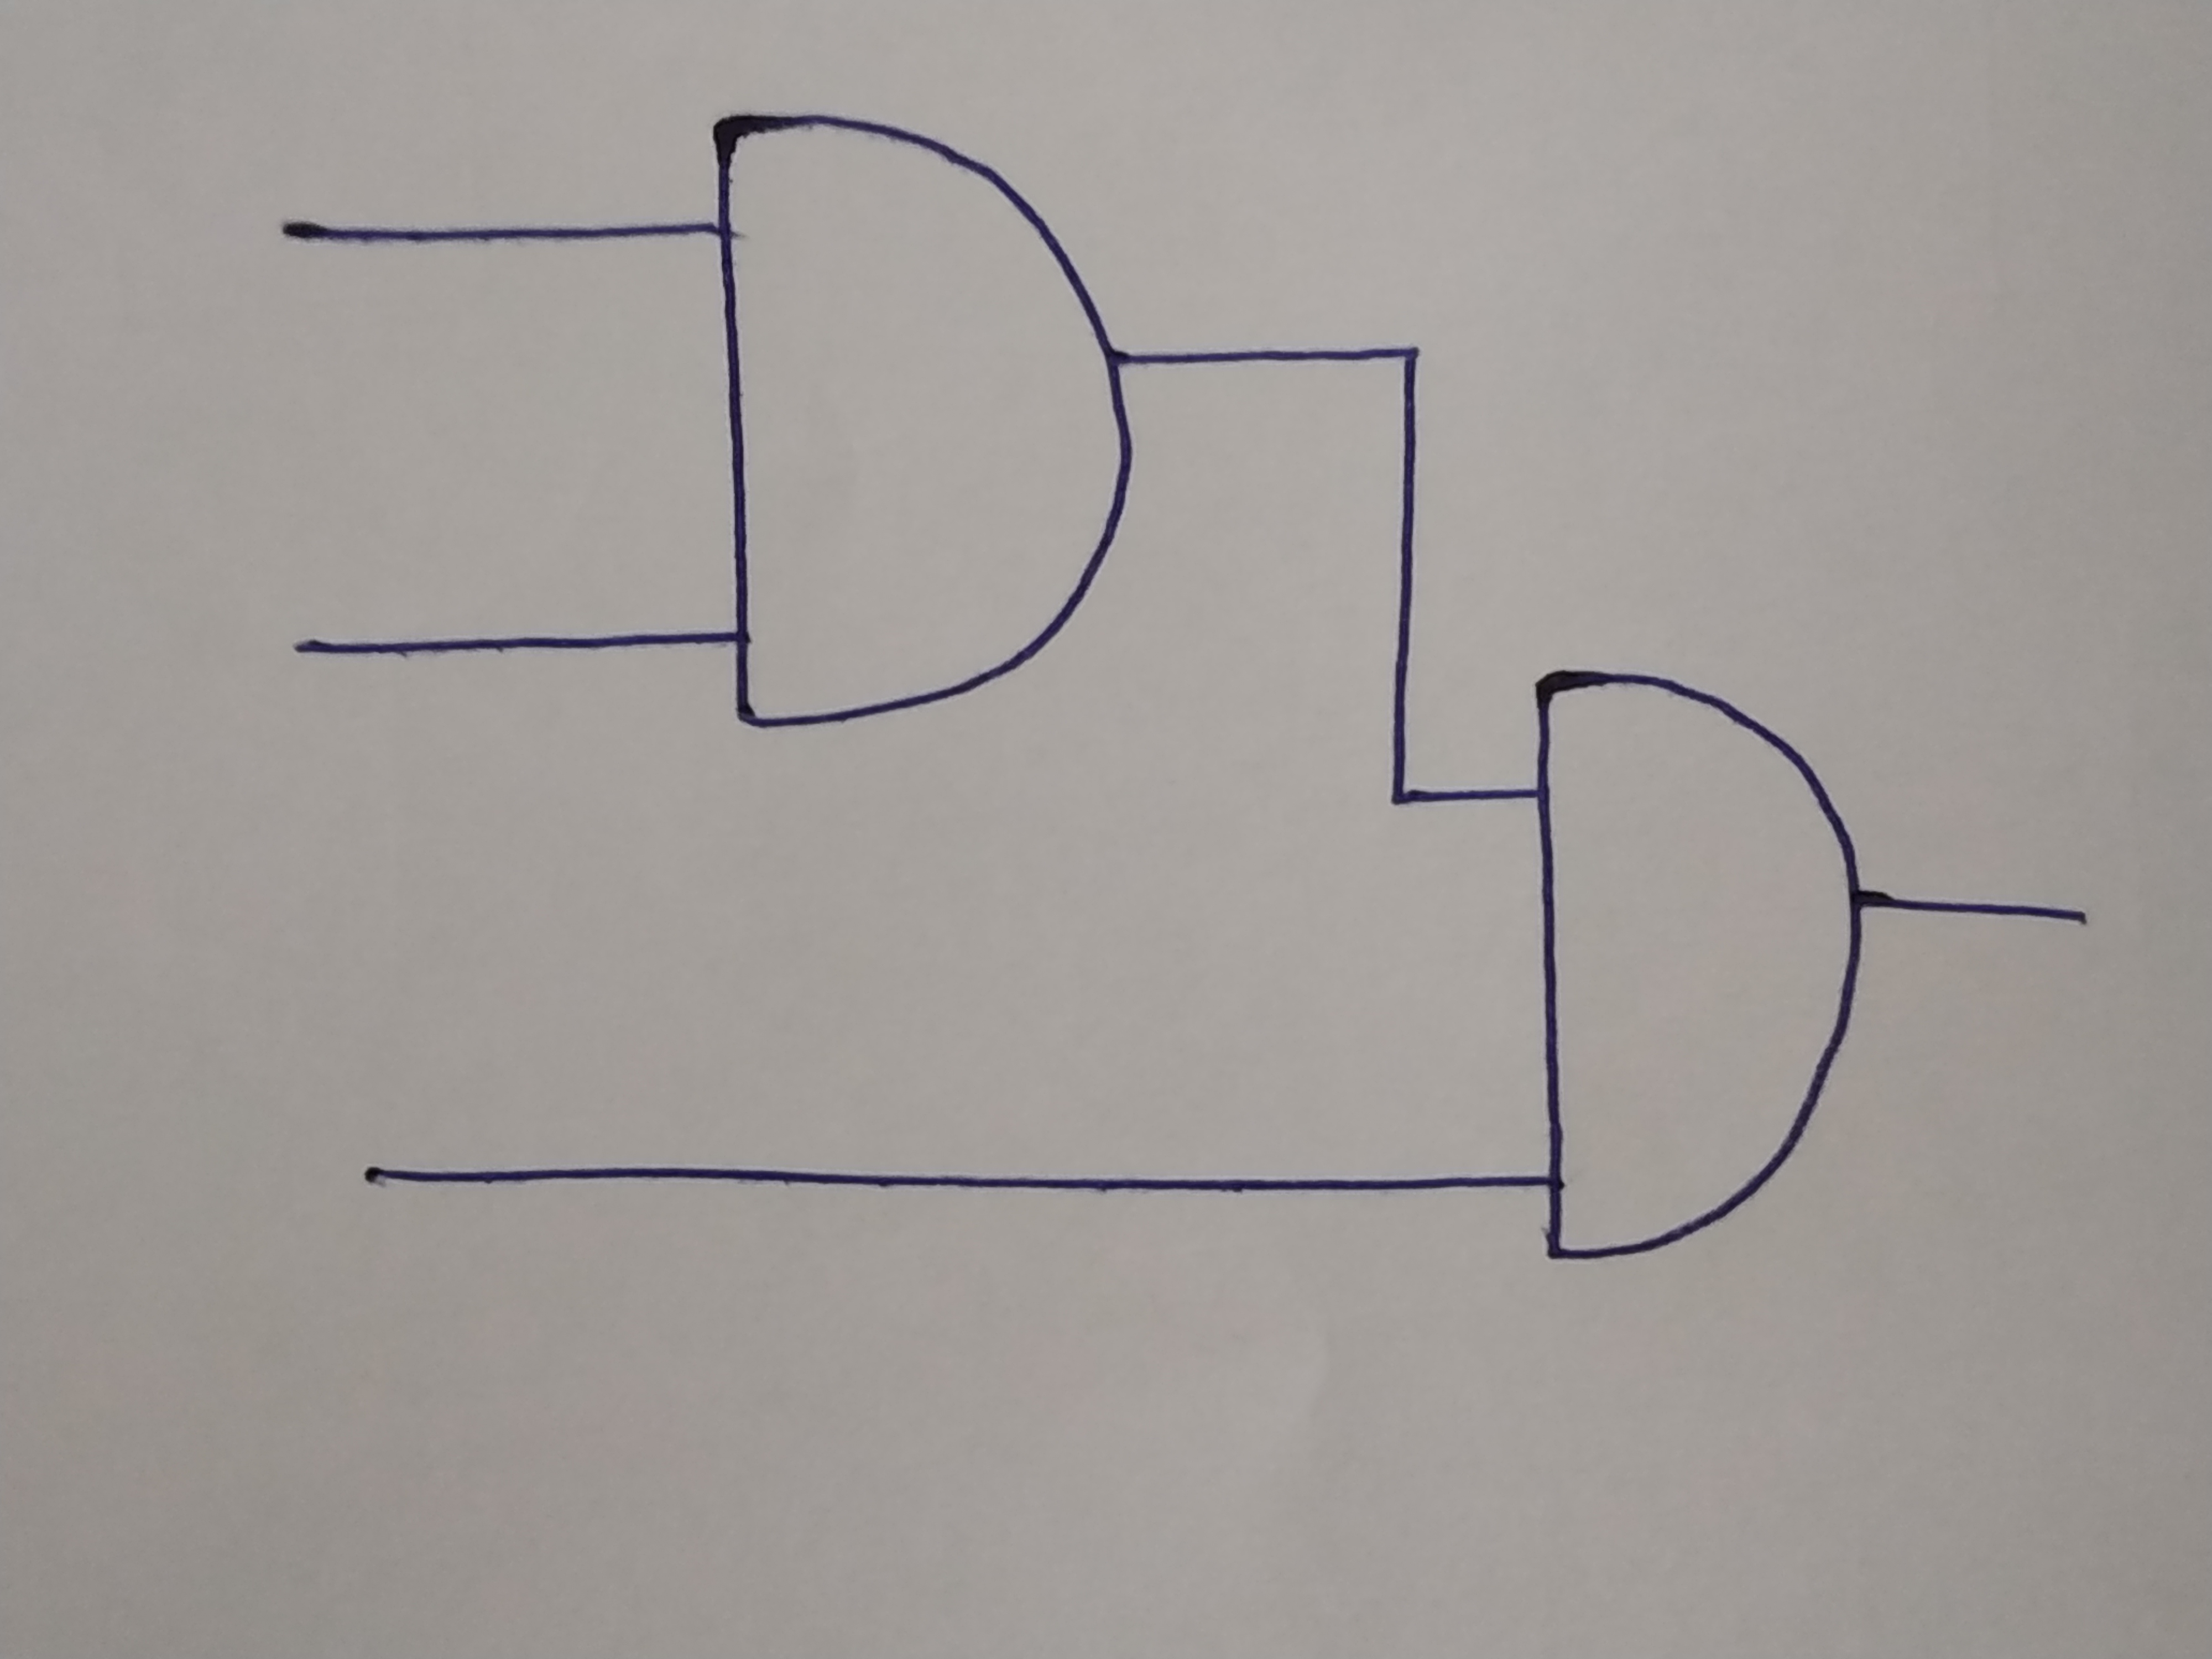and: (714, 110, 1132, 725), (1531, 667, 1851, 1251)
